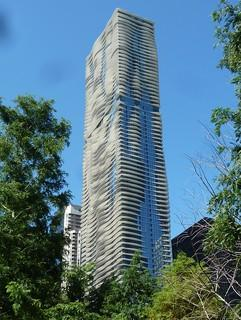building: (59, 3, 178, 288)
